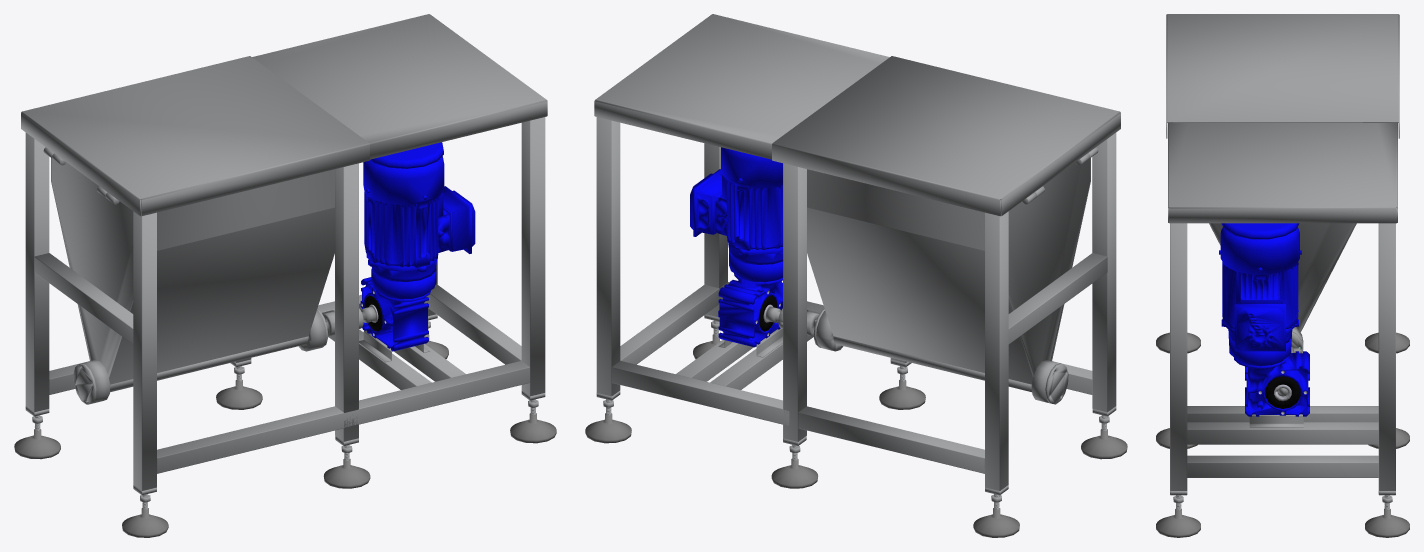
The model's file is dosificadora.glb.
The picture shows the model from 3 angles, left to right: view 1: azimuth 30°, elevation 25°; view 2: azimuth 150°, elevation 25°; view 3: azimuth 270°, elevation 25°; orthographic projection. The views are drawn at different scales.
Visible parts, largest first — view 1: Dosificadora_de_polvo; view 2: Dosificadora_de_polvo; view 3: Dosificadora_de_polvo.
Boxes of the visible parts, bbox=[...] form: Dosificadora_de_polvo: bbox=[14, 14, 556, 537]; Dosificadora_de_polvo: bbox=[585, 14, 1127, 537]; Dosificadora_de_polvo: bbox=[1156, 14, 1409, 537].
Bounding box in the file's own units: 1.06 × 0.7961 × 0.5614.
